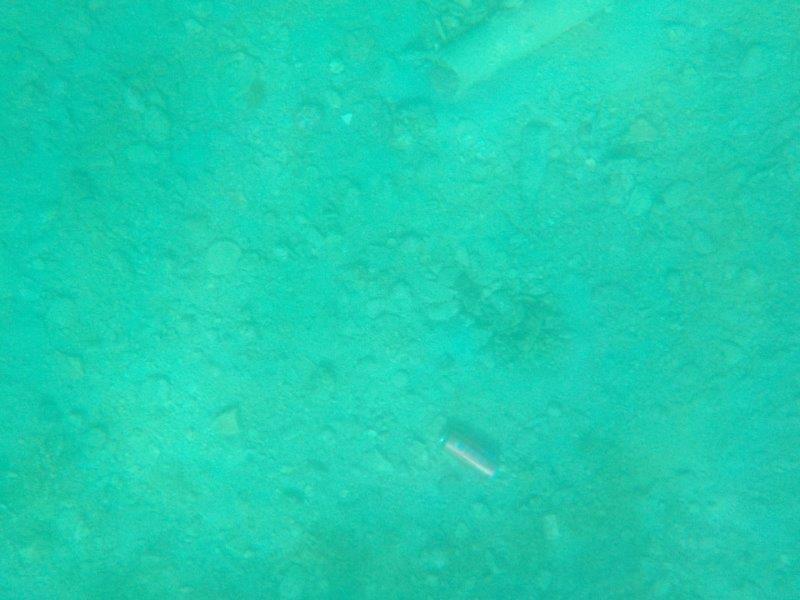bottle: (507, 114, 558, 226)
